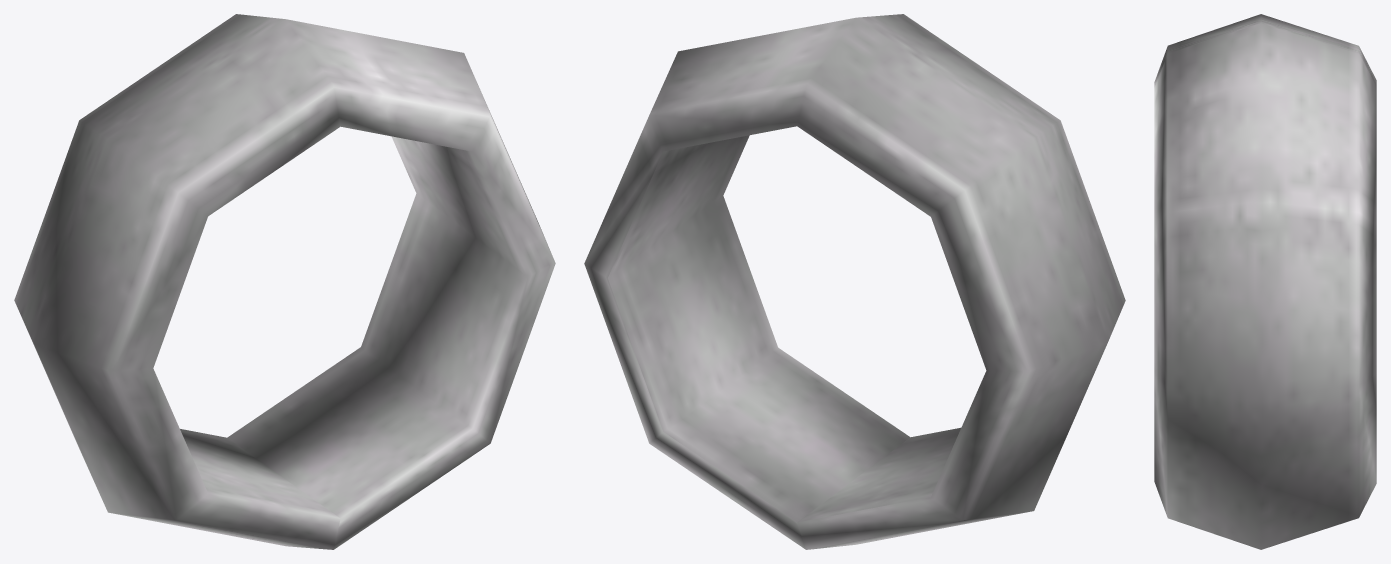
The model's file is ring_s01.fbx.
3 views of the same model, side by side, from view 1: azimuth 30°, elevation 25°; view 2: azimuth 150°, elevation 25°; view 3: azimuth 270°, elevation 25° (orthographic).
Visible parts, largest first — view 1: mesh_node; view 2: mesh_node; view 3: mesh_node.
Part boxes in pixels (x1,y1,x2,y2): mesh_node: (14,14,555,549); mesh_node: (584,14,1125,549); mesh_node: (1154,14,1376,549).
Bounding box in the file's own units: 0.0246 × 0.0246 × 0.0096.
